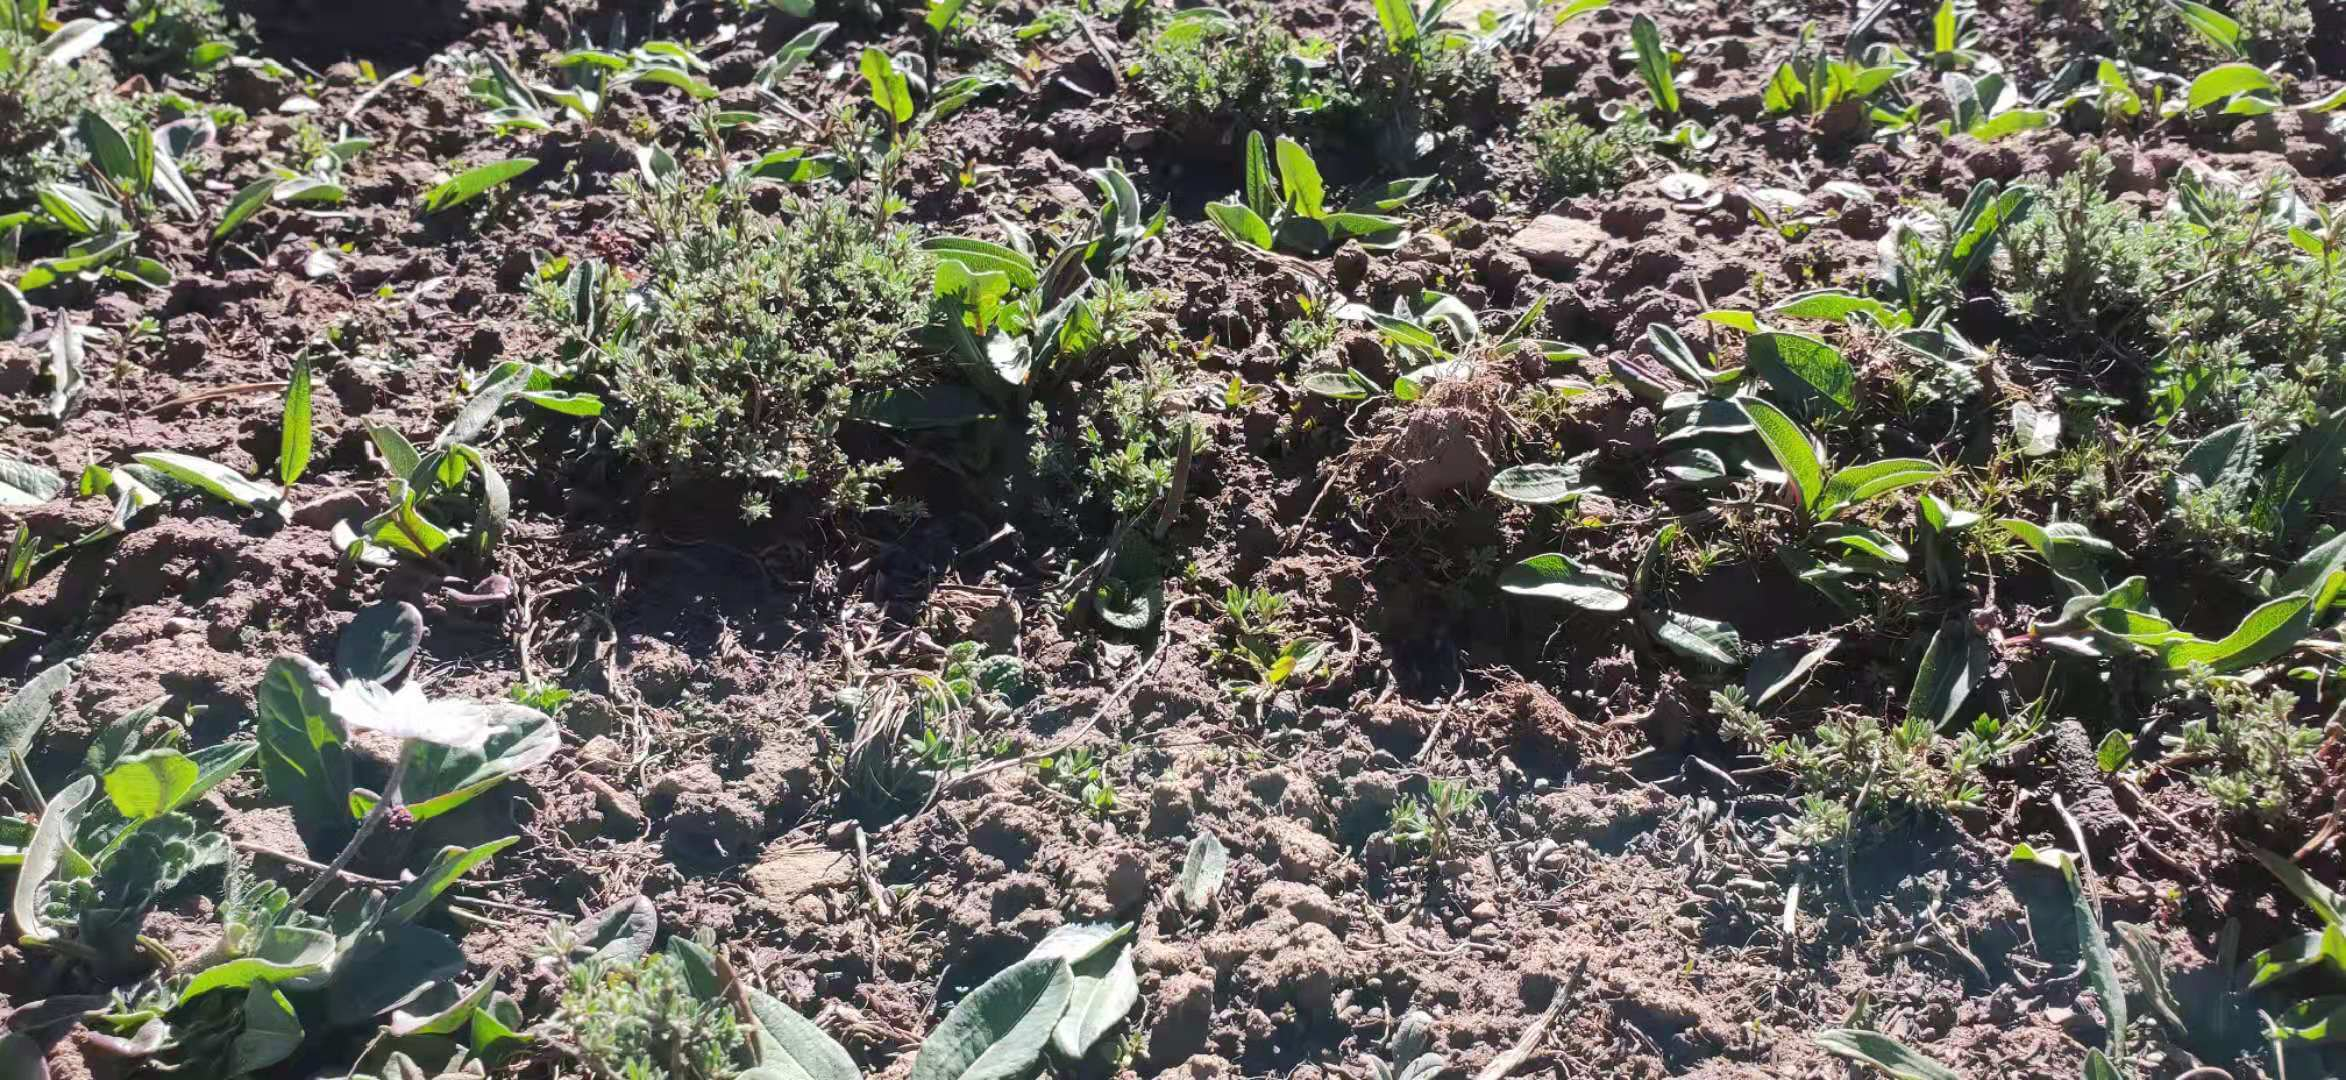cpf: (1155, 422, 1198, 541)
